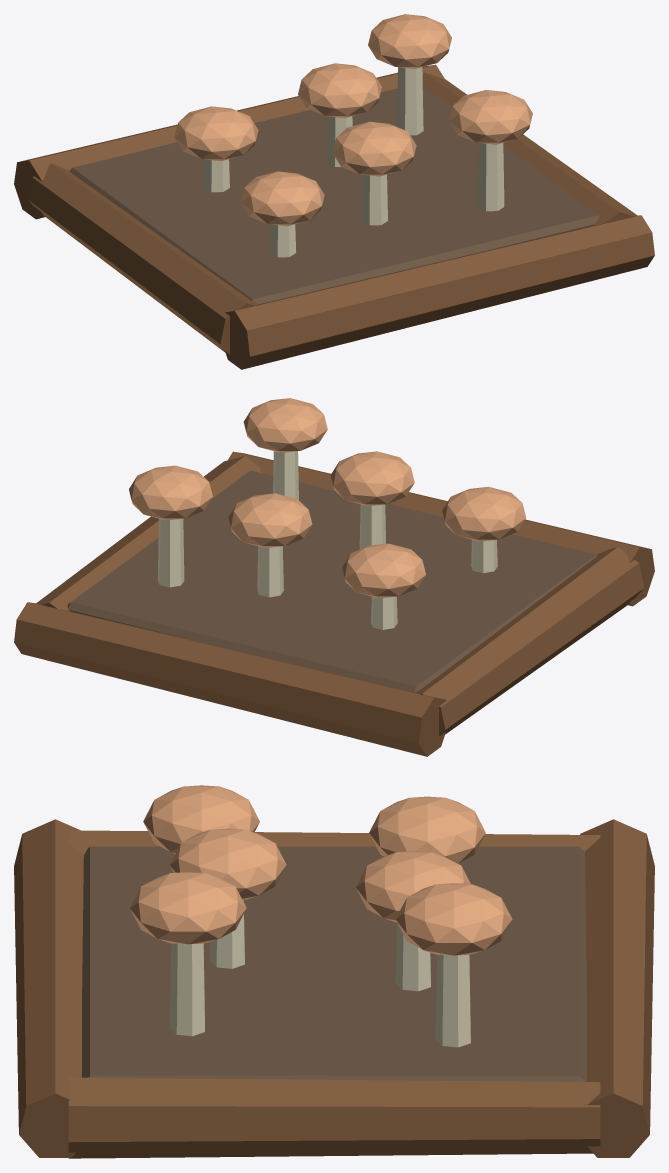
Rendered from CC_MushroomFarm.fbx.
3 renders of one model, top to bottom at view 1: azimuth 30°, elevation 25°; view 2: azimuth 150°, elevation 25°; view 3: azimuth 270°, elevation 25°, orthographic. The views are drawn at different scales.
Parts seen in each view (by area): view 1: Compost bed, Bed log.002, Bed log, Bed log.003, Bed log.001, Cap.015, Cap.012, Cap.013, Cap.016, Cap.017, Cap.014, Stem.018 (+5 smaller); view 2: Compost bed, Bed log.003, Bed log, Bed log.002, Bed log.001, Cap.013, Cap.017, Cap.012, Cap.014, Cap.015, Cap.016, Stem.021 (+5 smaller); view 3: Compost bed, Bed log.001, Bed log.003, Bed log.002, Cap.014, Cap.017, Cap.015, Cap.013, Cap.012, Bed log, Cap.016, Stem.021 (+3 smaller).
Part boxes in pixels (x1=…): Compost bed: x1=69, y1=87, x2=599, y2=303; Bed log.002: x1=225, y1=215, x2=654, y2=369; Bed log: x1=28, y1=163, x2=259, y2=354; Bed log.003: x1=14, y1=64, x2=445, y2=219; Bed log.001: x1=422, y1=72, x2=637, y2=225; Cap.015: x1=174, y1=106, x2=258, y2=161; Cap.012: x1=240, y1=171, x2=324, y2=226; Cap.013: x1=332, y1=121, x2=416, y2=176; Cap.016: x1=298, y1=63, x2=381, y2=117; Cap.017: x1=368, y1=14, x2=451, y2=68; Cap.014: x1=449, y1=90, x2=532, y2=144; Stem.018: x1=478, y1=143, x2=504, y2=211; Compost bed: x1=67, y1=470, x2=597, y2=692; Bed log.003: x1=14, y1=602, x2=446, y2=756; Bed log: x1=415, y1=547, x2=644, y2=736; Bed log.002: x1=227, y1=451, x2=654, y2=606; Bed log.001: x1=36, y1=456, x2=261, y2=610; Cap.013: x1=330, y1=451, x2=414, y2=506; Cap.017: x1=129, y1=465, x2=212, y2=520; Cap.012: x1=442, y1=486, x2=526, y2=541; Cap.014: x1=243, y1=398, x2=327, y2=452; Cap.015: x1=342, y1=543, x2=425, y2=598; Cap.016: x1=228, y1=493, x2=312, y2=547; Stem.021: x1=157, y1=518, x2=184, y2=587; Compost bed: x1=82, y1=846, x2=586, y2=1081; Bed log.001: x1=68, y1=1077, x2=600, y2=1158; Bed log.003: x1=580, y1=819, x2=654, y2=1157; Bed log.002: x1=14, y1=819, x2=83, y2=1157; Cap.014: x1=130, y1=872, x2=246, y2=944; Cap.017: x1=395, y1=883, x2=512, y2=955; Cap.015: x1=369, y1=796, x2=485, y2=863; Cap.013: x1=170, y1=828, x2=286, y2=899; Cap.012: x1=143, y1=785, x2=259, y2=853; Bed log: x1=68, y1=830, x2=600, y2=855; Cap.016: x1=356, y1=851, x2=470, y2=922; Stem.021: x1=435, y1=954, x2=470, y2=1047.
Bounding box in the file's own units: 2.51 × 0.8942 × 2.41.
